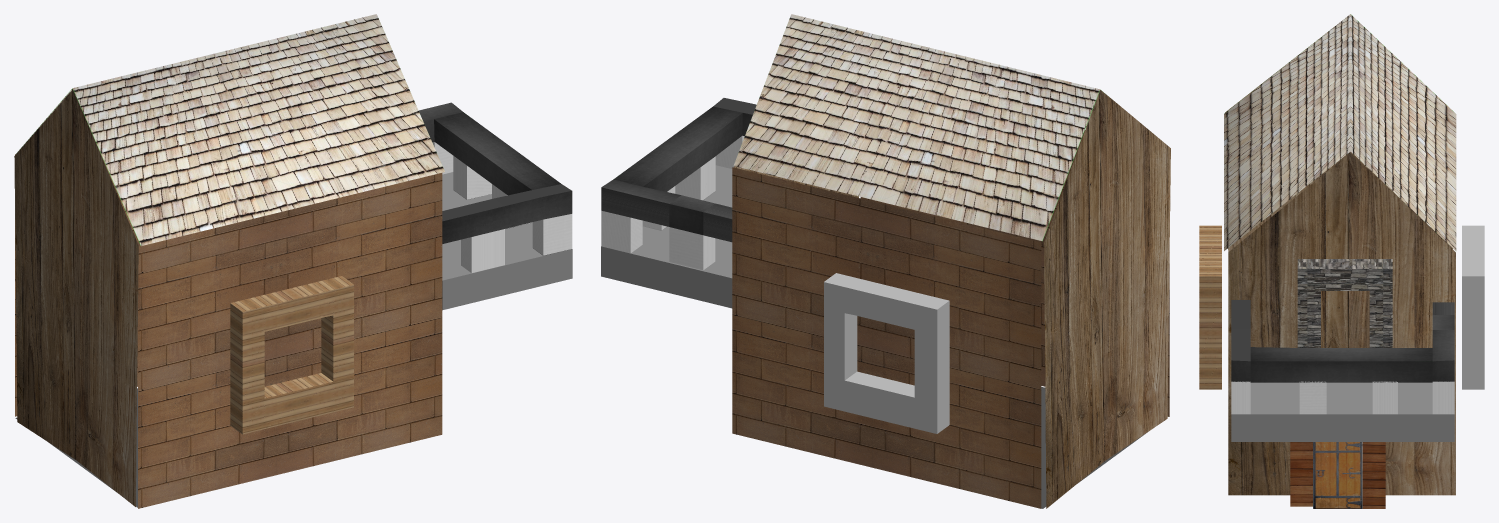
Rendered from casa7.obj.
3 renders of one model, left to right at view 1: azimuth 30°, elevation 25°; view 2: azimuth 150°, elevation 25°; view 3: azimuth 270°, elevation 25°, orthographic. The views are drawn at different scales.
Parts seen in each view (by area): view 1: casa2_parede_lado003, casa2_telhado001, casa2_parede004, Box001, sacada001, sacada_cima_lado001, sacada_cima_meio001, sacada_poste001; view 2: casa2_parede_lado004, casa2_telhado001, casa2_parede004, Box002, sacada001, sacada_cima_lado001, sacada_cima_meio001, sacada_poste001, casa2_parede_lado003, casa004; view 3: casa2_parede003, casa2_telhado001, sacada001, sacada_cima_meio001, porta001, Box001, Box002, sacada_cima_lado001, porta2, sacada_poste001, porta, casa2_parede004.
Part boxes in pixels (box(x1,y1,x2,y2)): casa2_parede_lado003: box(138, 173, 442, 508); casa2_telhado001: box(16, 14, 444, 245); casa2_parede004: box(14, 89, 138, 506); Box001: box(230, 276, 353, 434); sacada001: box(442, 172, 572, 310); sacada_cima_lado001: box(419, 102, 572, 243); sacada_cima_meio001: box(434, 112, 560, 195); sacada_poste001: box(432, 142, 572, 273); casa2_parede_lado004: box(732, 167, 1041, 508); casa2_telhado001: box(733, 14, 1109, 241); casa2_parede004: box(1044, 90, 1170, 508); Box002: box(824, 273, 949, 433); sacada001: box(601, 165, 732, 308); sacada_cima_lado001: box(601, 98, 756, 242); sacada_cima_meio001: box(613, 106, 742, 191); sacada_poste001: box(601, 135, 744, 270); casa2_parede_lado003: box(860, 130, 1169, 416); casa004: box(1041, 387, 1147, 508); casa2_parede003: box(1228, 152, 1455, 495); casa2_telhado001: box(1224, 14, 1456, 250); sacada001: box(1231, 382, 1454, 441); sacada_cima_meio001: box(1250, 347, 1432, 382); porta001: box(1297, 259, 1392, 347); Box001: box(1199, 225, 1221, 389); Box002: box(1462, 225, 1484, 389); sacada_cima_lado001: box(1231, 300, 1454, 381); porta2: box(1313, 442, 1362, 508); sacada_poste001: box(1231, 381, 1454, 414); porta: box(1290, 442, 1385, 508); casa2_parede004: box(1225, 15, 1452, 251).
Size of the model in its own units: 226 by 185 by 138.
